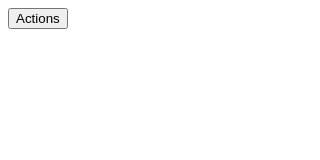
it: Escape closes the menu and returns focus to the trigger
Later steps or results of the test are not shown.
Click the button "Actions" at coordinates (38, 18), box [8,8,68,29]
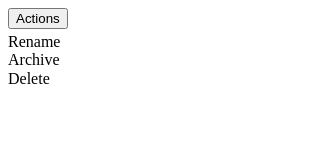
expect the menu is shown: met, box [8,33,60,87]
